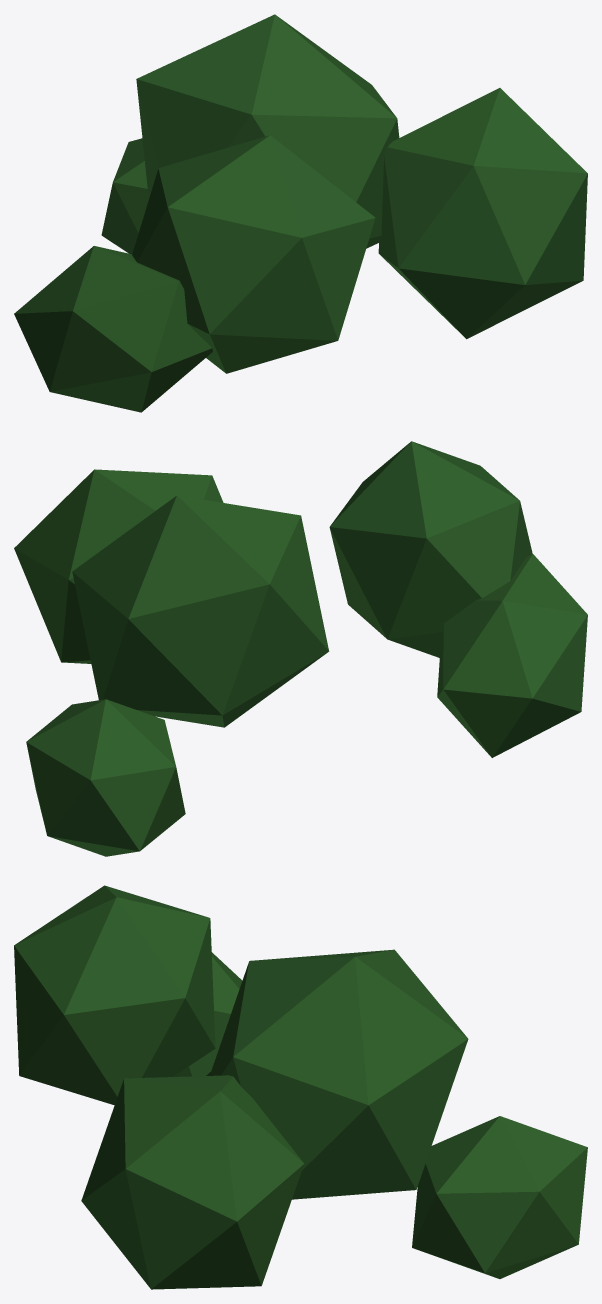
The model's file is ADIL_DEFAULT_TREE_NO1_.glb.
The picture shows the model from 3 angles, top to bottom: view 1: azimuth 30°, elevation 25°; view 2: azimuth 150°, elevation 25°; view 3: azimuth 270°, elevation 25°; orthographic projection. The views are drawn at different scales.
Visible parts, largest first — view 1: Icosphere.001, Icosphere.003, Icosphere.004, Icosphere.002, Icosphere; view 2: Icosphere.004, Icosphere.001, Icosphere.002, Icosphere, Icosphere.003; view 3: Icosphere.004, Icosphere.003, Icosphere.001, Icosphere, Icosphere.002.
Boxes of the visible parts, x1,y1,x2,y2 form: Icosphere.001: [132, 135, 375, 373]; Icosphere.003: [378, 88, 587, 339]; Icosphere.004: [136, 14, 399, 248]; Icosphere.002: [14, 246, 212, 412]; Icosphere: [101, 138, 150, 254]; Icosphere.004: [72, 495, 329, 727]; Icosphere.001: [329, 441, 532, 657]; Icosphere.002: [437, 554, 587, 757]; Icosphere: [26, 699, 185, 856]; Icosphere.003: [14, 469, 223, 663]; Icosphere.004: [209, 949, 468, 1199]; Icosphere.003: [81, 1075, 304, 1289]; Icosphere.001: [14, 885, 215, 1105]; Icosphere: [412, 1116, 587, 1278]; Icosphere.002: [173, 952, 242, 1076].
Bounding box in the file's own units: 4.91 × 2.76 × 4.46.
